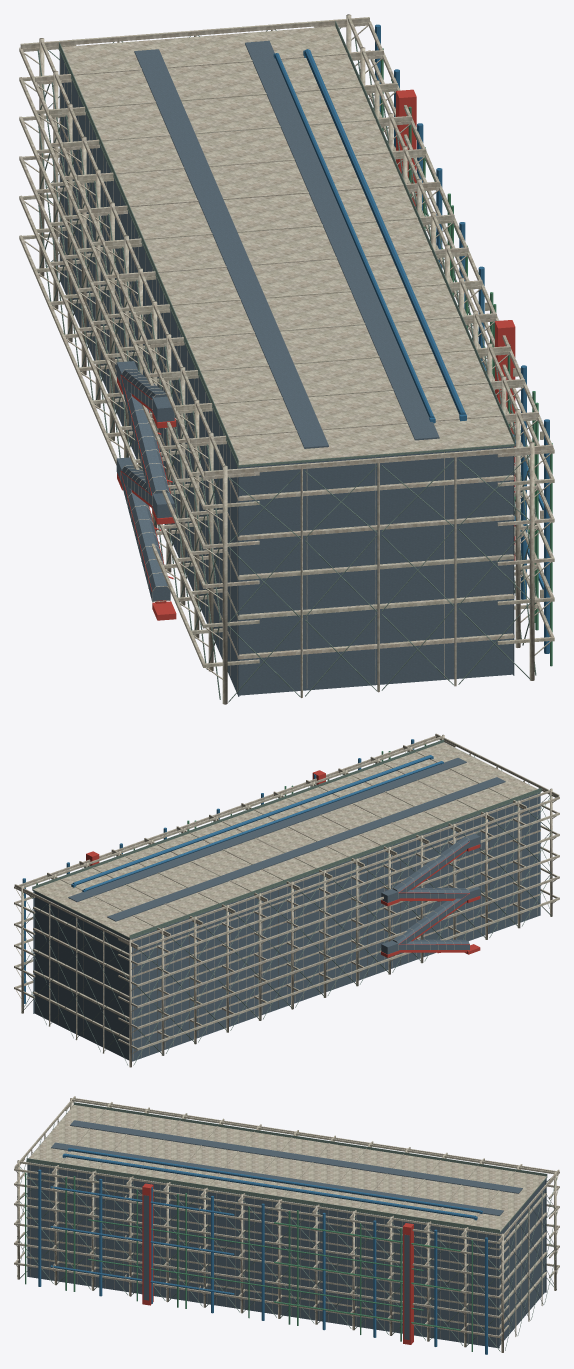
Rendered from centre-georges-pompidou.glb.
The picture shows the model from 3 angles, top to bottom: view 1: azimuth 30°, elevation 25°; view 2: azimuth 150°, elevation 25°; view 3: azimuth 270°, elevation 25°; orthographic projection. The views are drawn at different scales.
Parts seen in each view (by area): view 1: trim, glass, roof, stone, terracotta, metal; view 2: trim, glass, roof, stone, terracotta; view 3: trim, glass, stone, roof, metal, terracotta.
Part boxes in pixels (box(x1,y1,x2,y2)): trim: box(19, 14, 554, 704); glass: box(59, 40, 514, 696); roof: box(37, 21, 536, 702); stone: box(273, 24, 549, 653); terracotta: box(117, 89, 515, 620); metal: box(380, 48, 552, 666); trim: box(14, 733, 559, 1067); glass: box(33, 757, 540, 1061); roof: box(21, 739, 551, 1065); stone: box(22, 739, 443, 1003); terracotta: box(86, 770, 480, 957); trim: box(14, 1096, 559, 1352); glass: box(27, 1120, 546, 1348); stone: box(38, 1148, 487, 1354); roof: box(17, 1102, 556, 1351); metal: box(25, 1172, 472, 1351); terracotta: box(142, 1183, 413, 1344).
Bounding box in the file's own units: 110 × 42.4 × 175.
6 materials, 6 textured.
